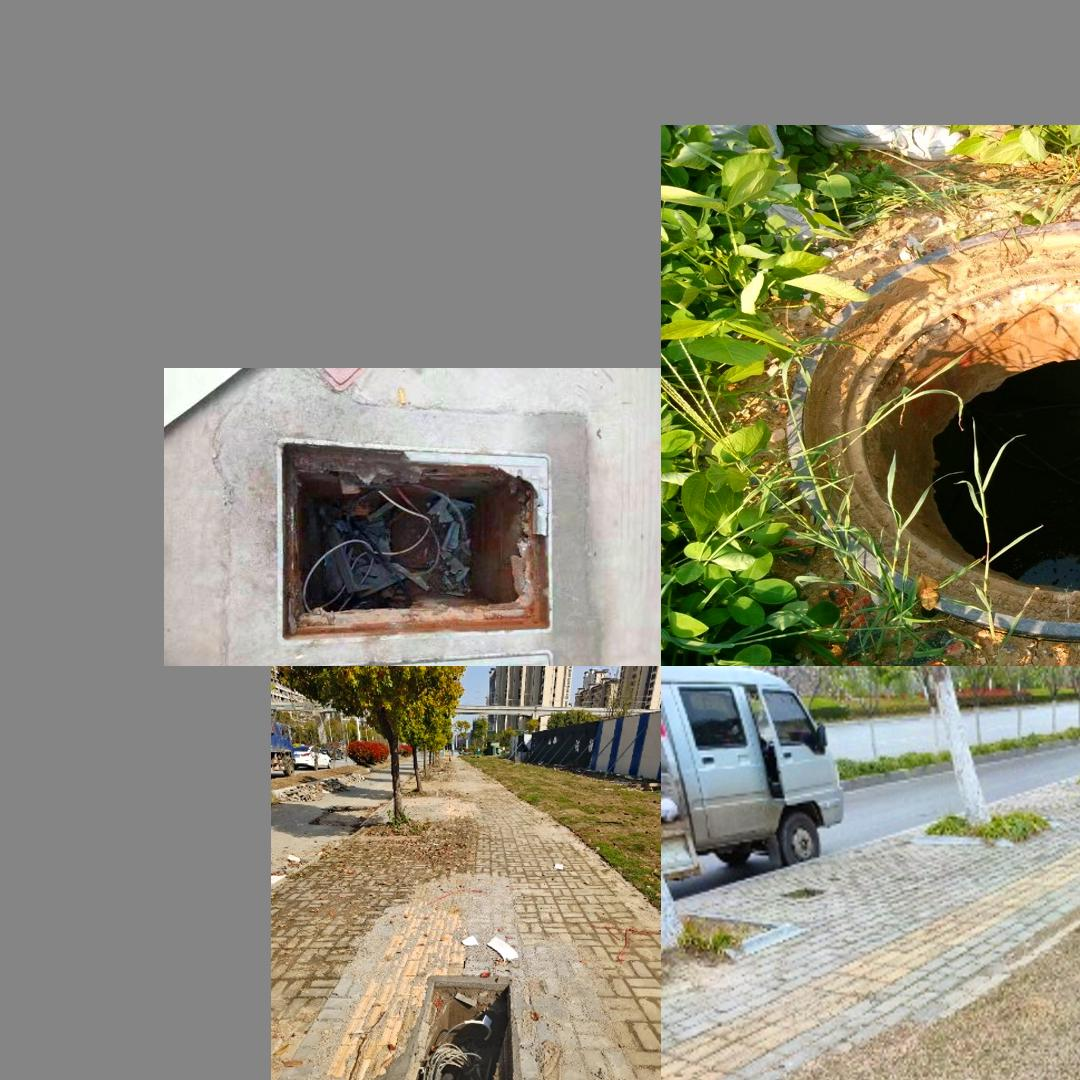lose: (791, 220, 1080, 639), (275, 437, 553, 644), (404, 962, 521, 1080)
